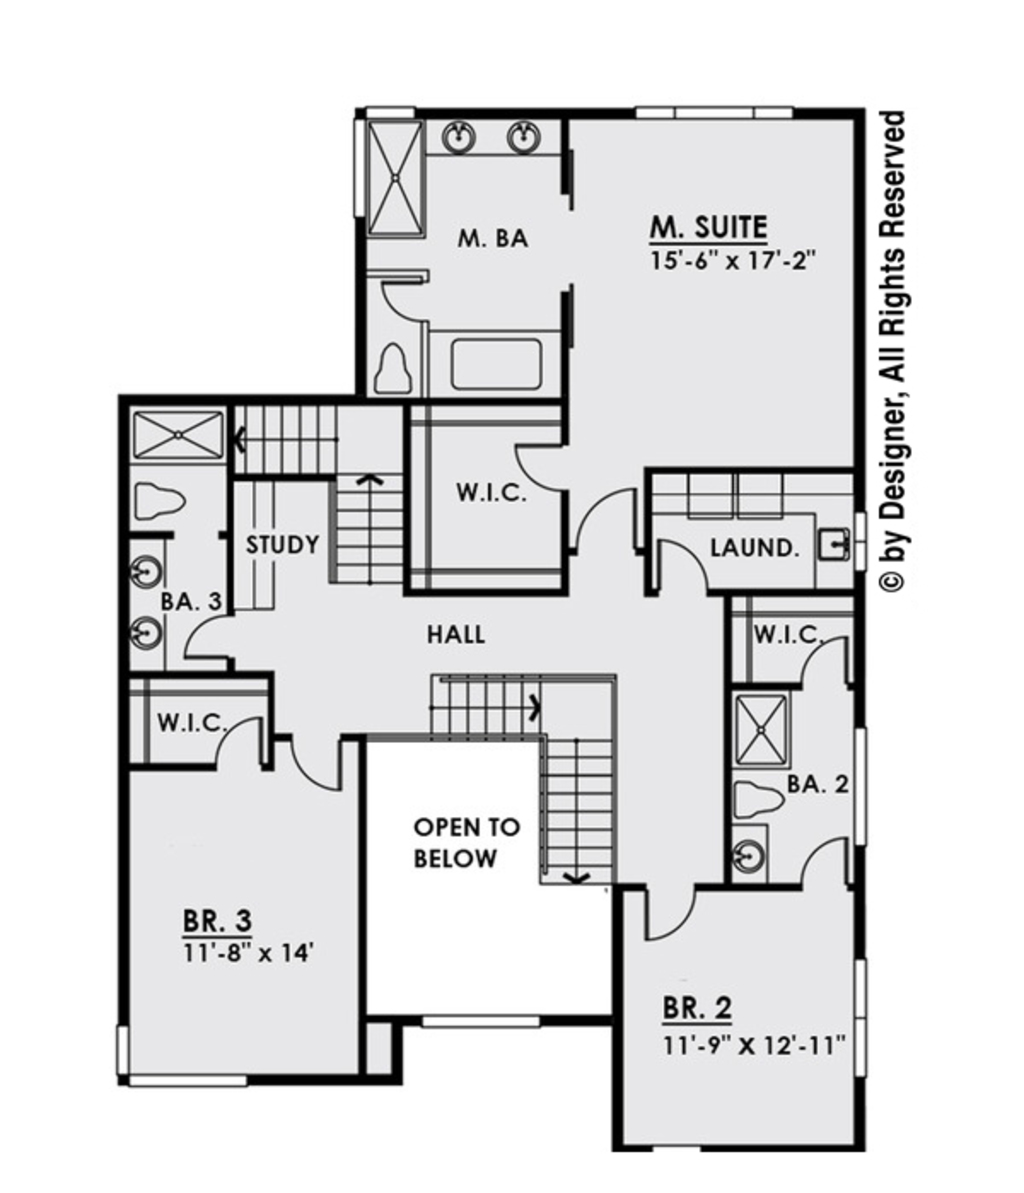door: (573, 483, 642, 552), (504, 438, 566, 505), (639, 881, 701, 948), (291, 730, 347, 797), (794, 831, 850, 893), (205, 716, 264, 773), (652, 533, 707, 591), (802, 635, 856, 690), (175, 612, 233, 661), (378, 281, 426, 323)
large_sink: (128, 477, 197, 530), (729, 774, 786, 818)
small_sink: (125, 530, 173, 673), (428, 119, 564, 158), (730, 820, 775, 892)
stairs: (419, 674, 619, 881), (229, 397, 410, 593)
tub: (438, 326, 553, 400)
windows: (620, 102, 797, 125), (414, 1007, 553, 1034), (848, 948, 875, 1085)
